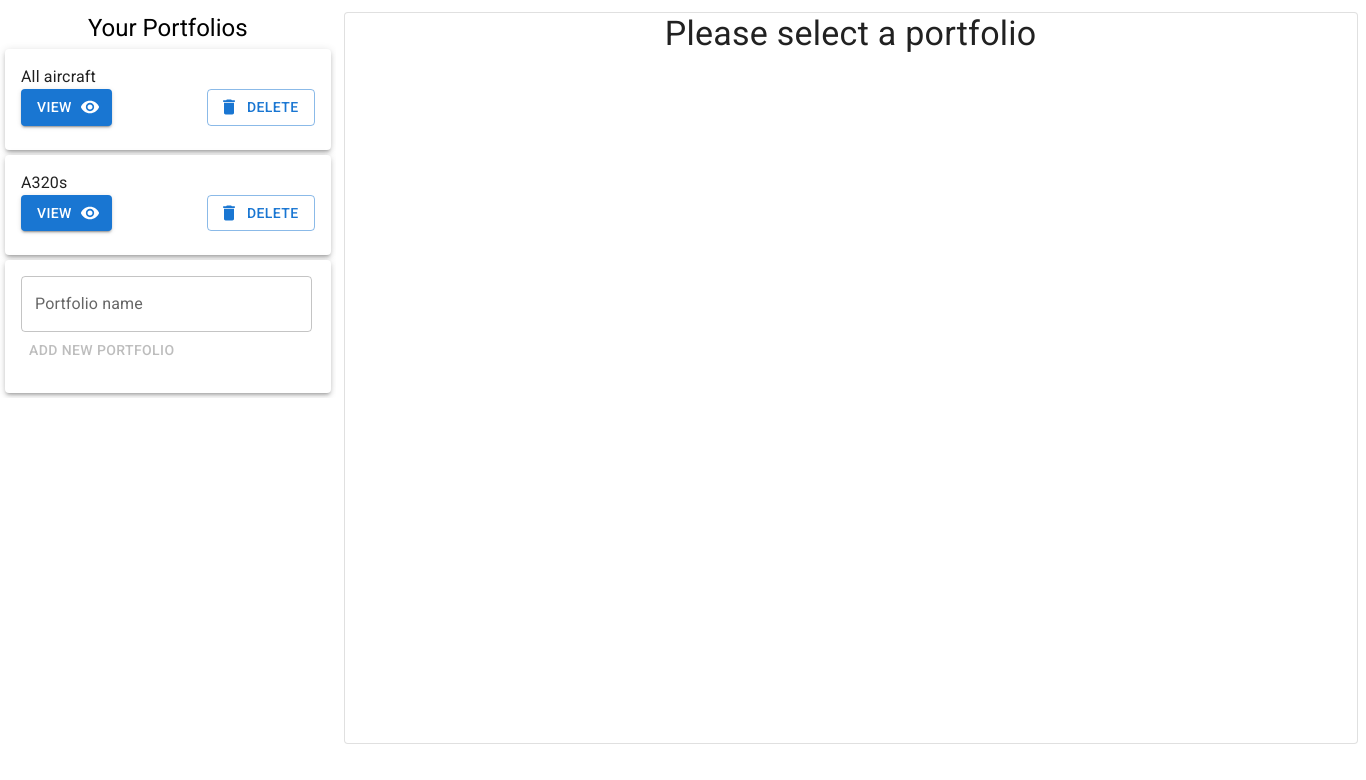
Dashboard flow › Entering text into the 'Portfolio Name' input and clicking 'Add New Portfolio' creates a new portfolio
This screenshot has width=1366, height=780.
Check: the button "Add new portfolio" is disabled, box x1=21 y1=332 x2=183 y2=369
Type "E2E Test Portfolio" into the field with id "new-portfolio-name".
click(167, 304); type("E2E Test Portfolio")  # box x1=21 y1=276 x2=312 y2=332
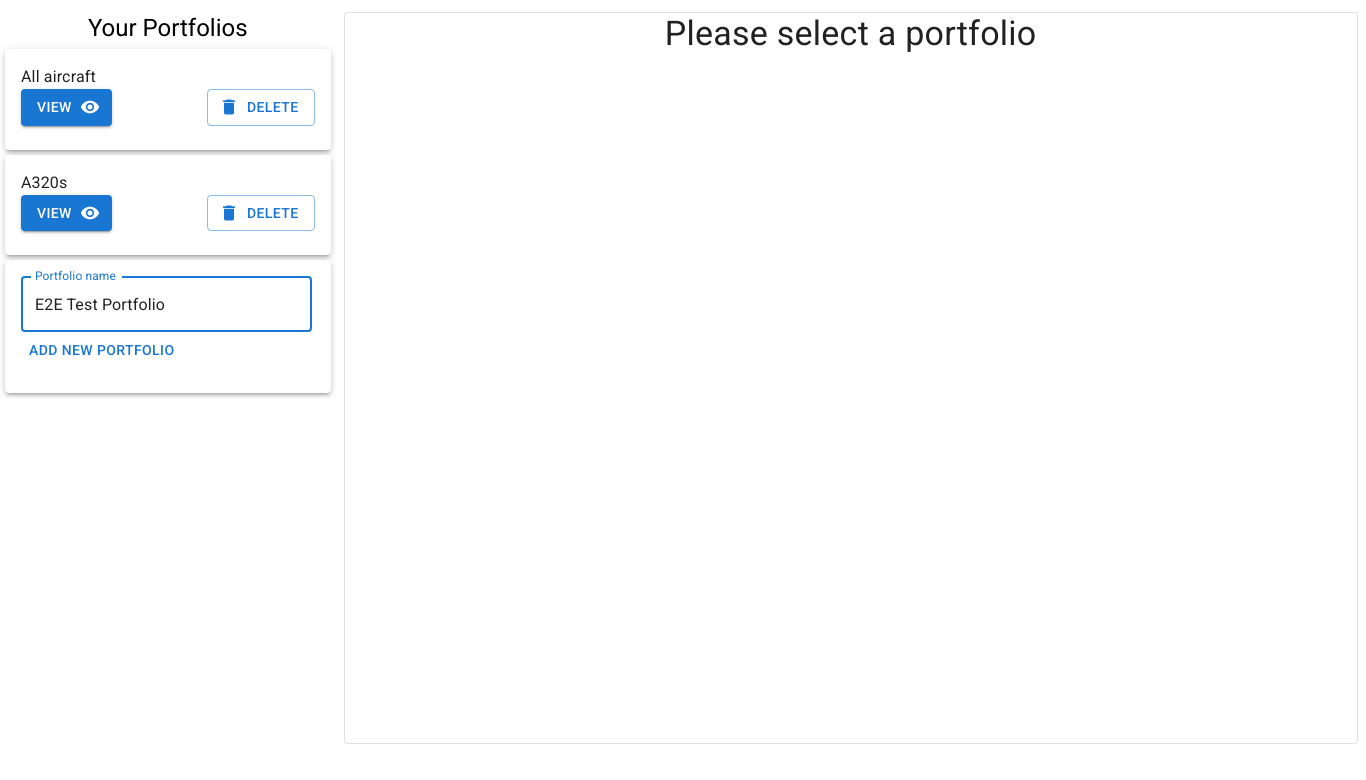
Check: the text "Add new portfolio" is enabled
Click the button "Add new portfolio".
click(102, 351)  # box x1=21 y1=332 x2=183 y2=369
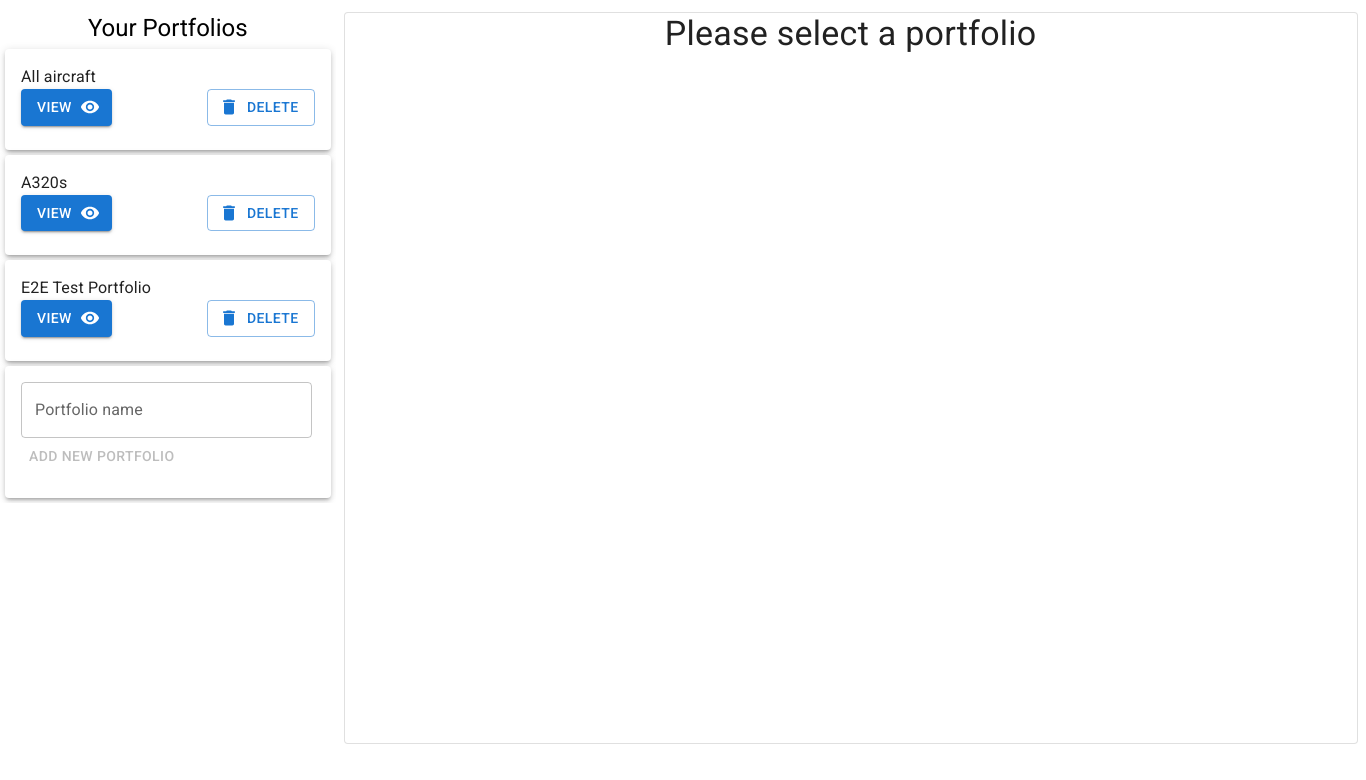
Check: the text "E2E Test Portfolio" is shown, box x1=21 y1=278 x2=151 y2=297
